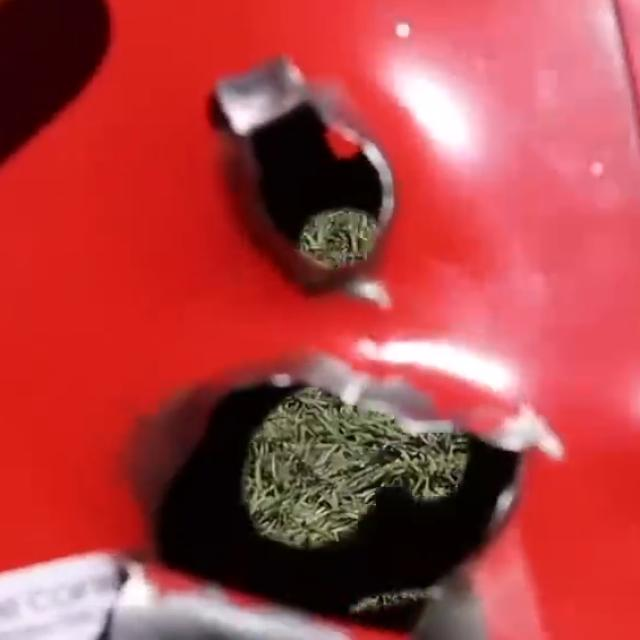bullets: (147, 354, 533, 640), (213, 60, 400, 275)
